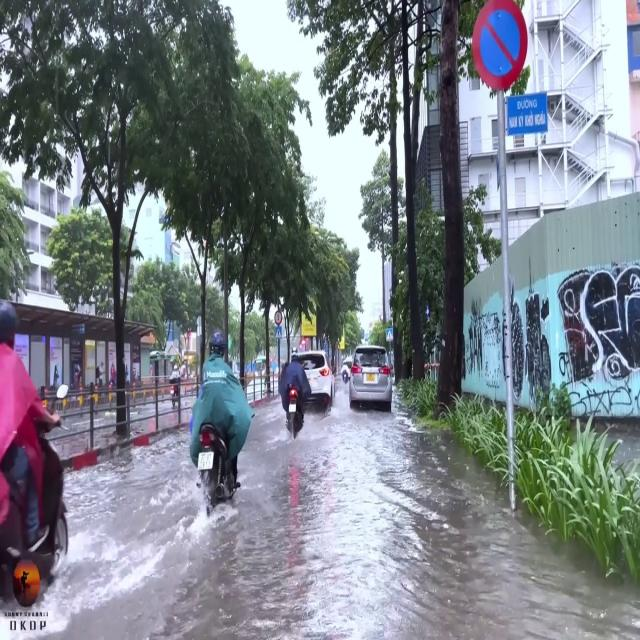bien_trang: (198, 453, 213, 470)
